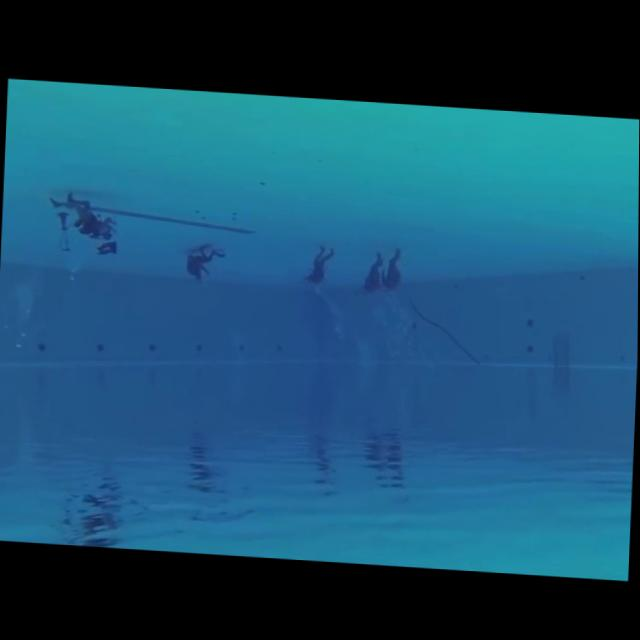human: (43, 187, 126, 262), (181, 236, 232, 294), (298, 237, 338, 293), (359, 244, 388, 303), (383, 239, 411, 289)
